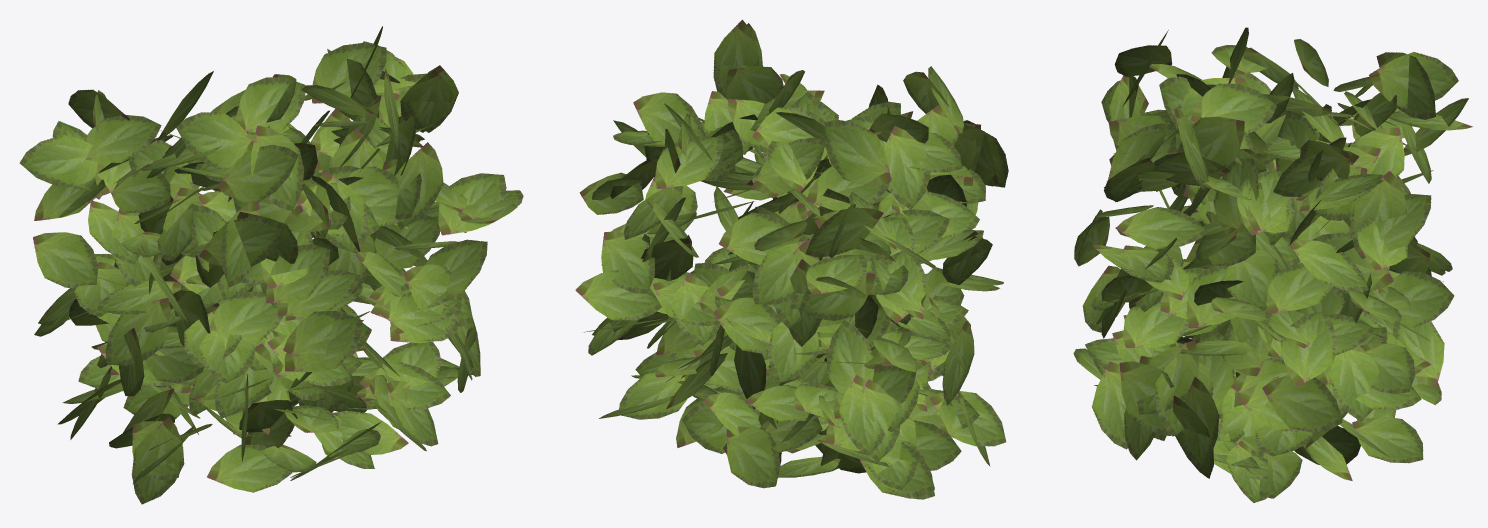
File: shrub-rounded-01-lod1.glb
3 renders of one model, left to right at view 1: azimuth 30°, elevation 25°; view 2: azimuth 150°, elevation 25°; view 3: azimuth 270°, elevation 25°, orthographic. The views are drawn at different scales.
Parts seen in each view (by area): view 1: shrub-rounded-01_MATERIAL_BATCH; view 2: shrub-rounded-01_MATERIAL_BATCH; view 3: shrub-rounded-01_MATERIAL_BATCH.
Boxes of the visible parts, x1=… form: shrub-rounded-01_MATERIAL_BATCH: x1=19, y1=26, x2=523, y2=504; shrub-rounded-01_MATERIAL_BATCH: x1=575, y1=19, x2=1008, y2=499; shrub-rounded-01_MATERIAL_BATCH: x1=1073, y1=27, x2=1472, y2=502.
Bounding box in the file's own units: 1.36 × 1.26 × 1.2.
1 material, 1 textured.
